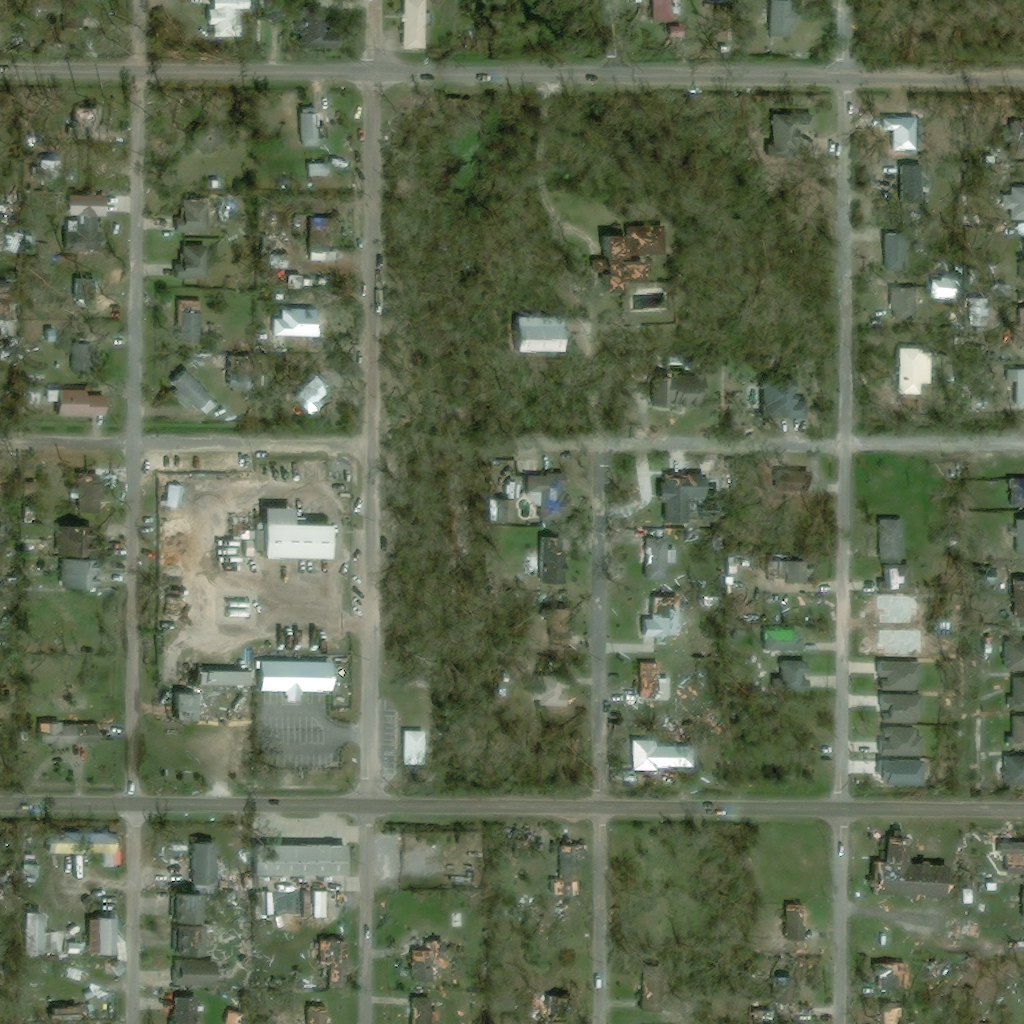destroyed: (949, 918, 961, 931), (952, 933, 965, 942)
major_damage: (869, 835, 949, 895), (642, 595, 680, 637), (637, 660, 670, 700), (1000, 835, 1023, 873), (785, 902, 806, 937), (309, 1004, 329, 1023)
minor_damage: (660, 460, 707, 522), (592, 234, 640, 293), (36, 722, 101, 750), (628, 227, 673, 266), (531, 537, 569, 580), (559, 843, 591, 893), (643, 537, 678, 579), (321, 940, 348, 989), (56, 523, 97, 554), (413, 941, 444, 980), (640, 965, 663, 1011), (72, 473, 97, 514), (773, 977, 795, 1017), (172, 925, 201, 954), (871, 962, 892, 991), (173, 692, 198, 716)
no_damage: (257, 507, 332, 558), (254, 839, 348, 874), (256, 659, 332, 701), (46, 831, 121, 868), (166, 367, 218, 415), (750, 376, 807, 417), (652, 372, 704, 414), (23, 911, 68, 954), (46, 388, 107, 418), (632, 738, 694, 767), (514, 316, 563, 352), (398, 0, 434, 48), (294, 49, 333, 93), (897, 346, 933, 393), (214, 348, 254, 388), (527, 470, 562, 512), (164, 0, 202, 34), (274, 308, 318, 337), (881, 694, 924, 723), (537, 674, 577, 705), (177, 237, 208, 277), (190, 841, 217, 886), (181, 668, 252, 685), (881, 726, 921, 756), (883, 117, 918, 151), (881, 661, 921, 690), (176, 198, 210, 231), (309, 218, 342, 252), (174, 957, 215, 984), (61, 558, 97, 587), (300, 107, 326, 147), (90, 917, 118, 954), (885, 227, 908, 270), (882, 519, 905, 561), (192, 122, 222, 154), (770, 0, 796, 35), (291, 385, 323, 412), (179, 298, 199, 341), (764, 630, 803, 651), (170, 892, 198, 921), (781, 660, 809, 689), (65, 209, 97, 234), (1002, 120, 1023, 156), (1004, 186, 1023, 219), (886, 565, 910, 591), (175, 996, 198, 1023), (488, 499, 515, 521), (1005, 754, 1023, 786), (1007, 715, 1023, 748), (402, 728, 423, 753), (1007, 640, 1023, 670), (873, 1006, 901, 1023), (1010, 369, 1023, 405), (232, 517, 254, 538), (1010, 675, 1023, 708), (256, 890, 271, 915), (1014, 576, 1023, 616), (1011, 479, 1023, 507), (76, 274, 102, 286), (28, 861, 44, 880), (1015, 307, 1023, 344), (309, 162, 330, 176), (43, 325, 58, 344), (932, 279, 947, 297), (994, 281, 1011, 295), (332, 157, 353, 167), (30, 389, 42, 405), (244, 538, 255, 555), (963, 888, 974, 903), (389, 837, 402, 849), (29, 373, 43, 384), (1019, 519, 1023, 554), (0, 225, 8, 242), (0, 207, 6, 222), (0, 301, 4, 319)
